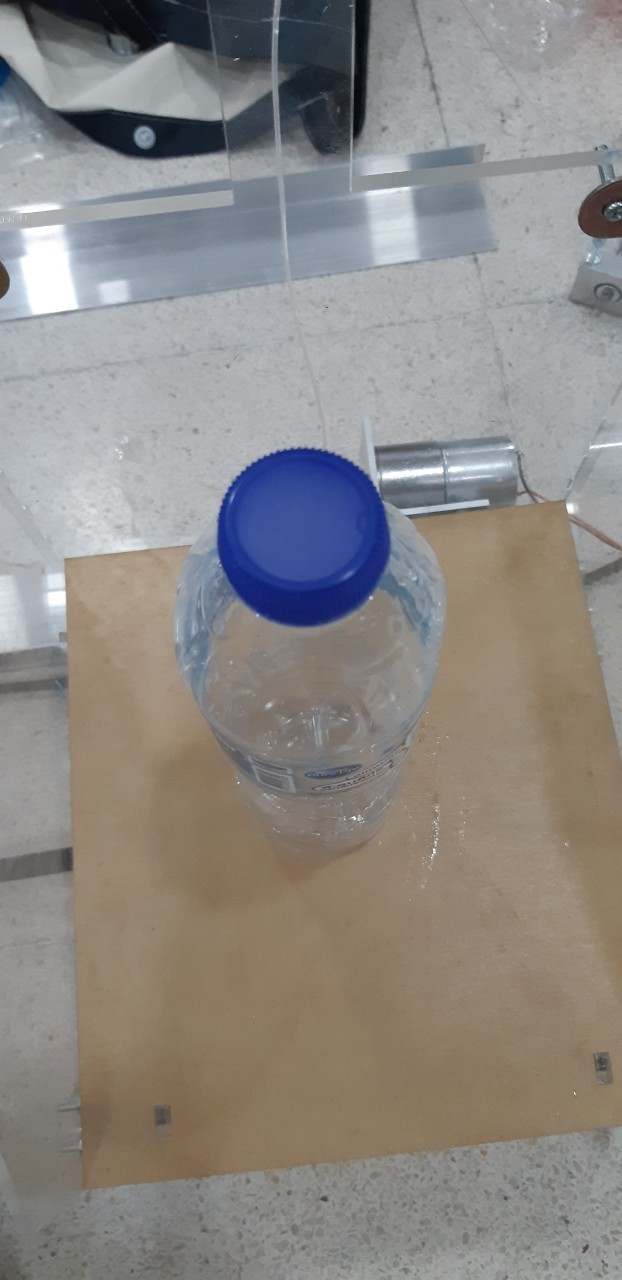PlasticBottle: (178, 453, 446, 853)
